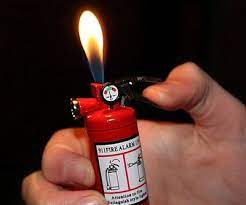Fire: (70, 3, 112, 83)
